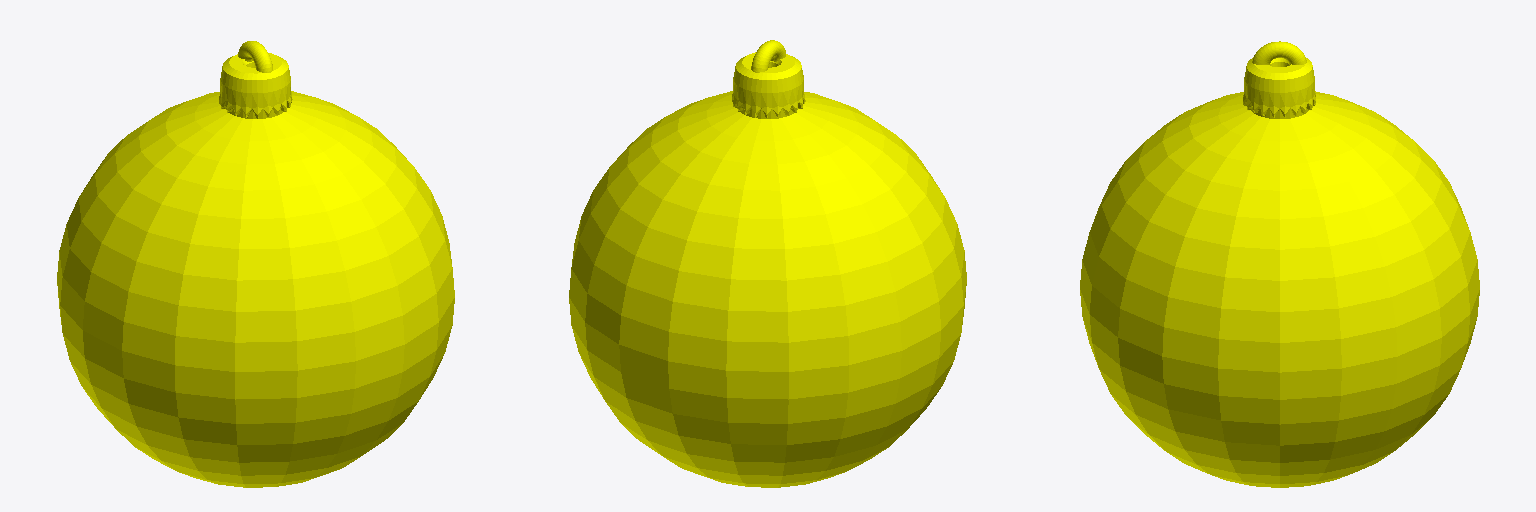
The picture shows the model from 3 angles: view 1: azimuth 30°, elevation 25°; view 2: azimuth 150°, elevation 25°; view 3: azimuth 270°, elevation 25°; orthographic projection.
Visible parts, largest first — view 1: Glass_Ball1Red_Bulb, Red_Bulbtop_crownpPipe2, Red_BulbpTorus1top_crown; view 2: Glass_Ball1Red_Bulb, Red_Bulbtop_crownpPipe2, Red_BulbpTorus1top_crown; view 3: Glass_Ball1Red_Bulb, Red_Bulbtop_crownpPipe2, Red_BulbpTorus1top_crown.
Boxes of the visible parts, x1=… form: Glass_Ball1Red_Bulb: x1=57, y1=91, x2=454, y2=487; Red_Bulbtop_crownpPipe2: x1=219, y1=53, x2=292, y2=118; Red_BulbpTorus1top_crown: x1=238, y1=41, x2=272, y2=72; Glass_Ball1Red_Bulb: x1=569, y1=91, x2=966, y2=487; Red_Bulbtop_crownpPipe2: x1=732, y1=52, x2=805, y2=117; Red_BulbpTorus1top_crown: x1=751, y1=40, x2=785, y2=72; Glass_Ball1Red_Bulb: x1=1080, y1=91, x2=1479, y2=487; Red_Bulbtop_crownpPipe2: x1=1243, y1=57, x2=1315, y2=117; Red_BulbpTorus1top_crown: x1=1252, y1=41, x2=1306, y2=65.
Bounding box in the file's own units: 13.51 × 15.9 × 13.51.
2 materials, 2 textured.